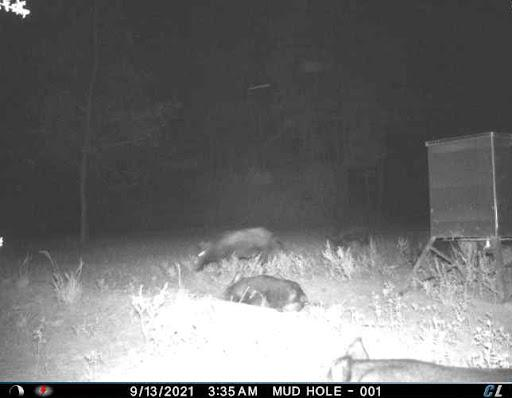Hog: (325, 334, 512, 381), (194, 223, 282, 272), (224, 267, 306, 316)
